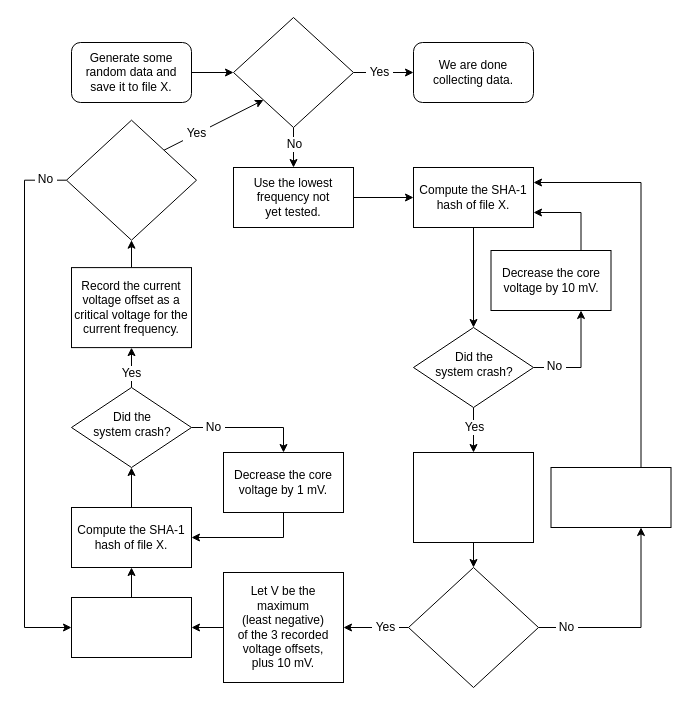
This 689x705 diagram has some shape labels left out. The centre of each missing label's shape, as x and y in pixels:
Have we recorded 10 critical voltages for this frequency?: pixel 131 179
Have we recorded 3 voltage offsets for this frequency?: pixel 473 627
Have we tested all frequencies?: pixel 293 72
Record the current voltage offset for the current frequency.: pixel 473 497
Reset the core voltage offset to zero.: pixel 610 497
Set the core voltage offset to V.: pixel 131 627
